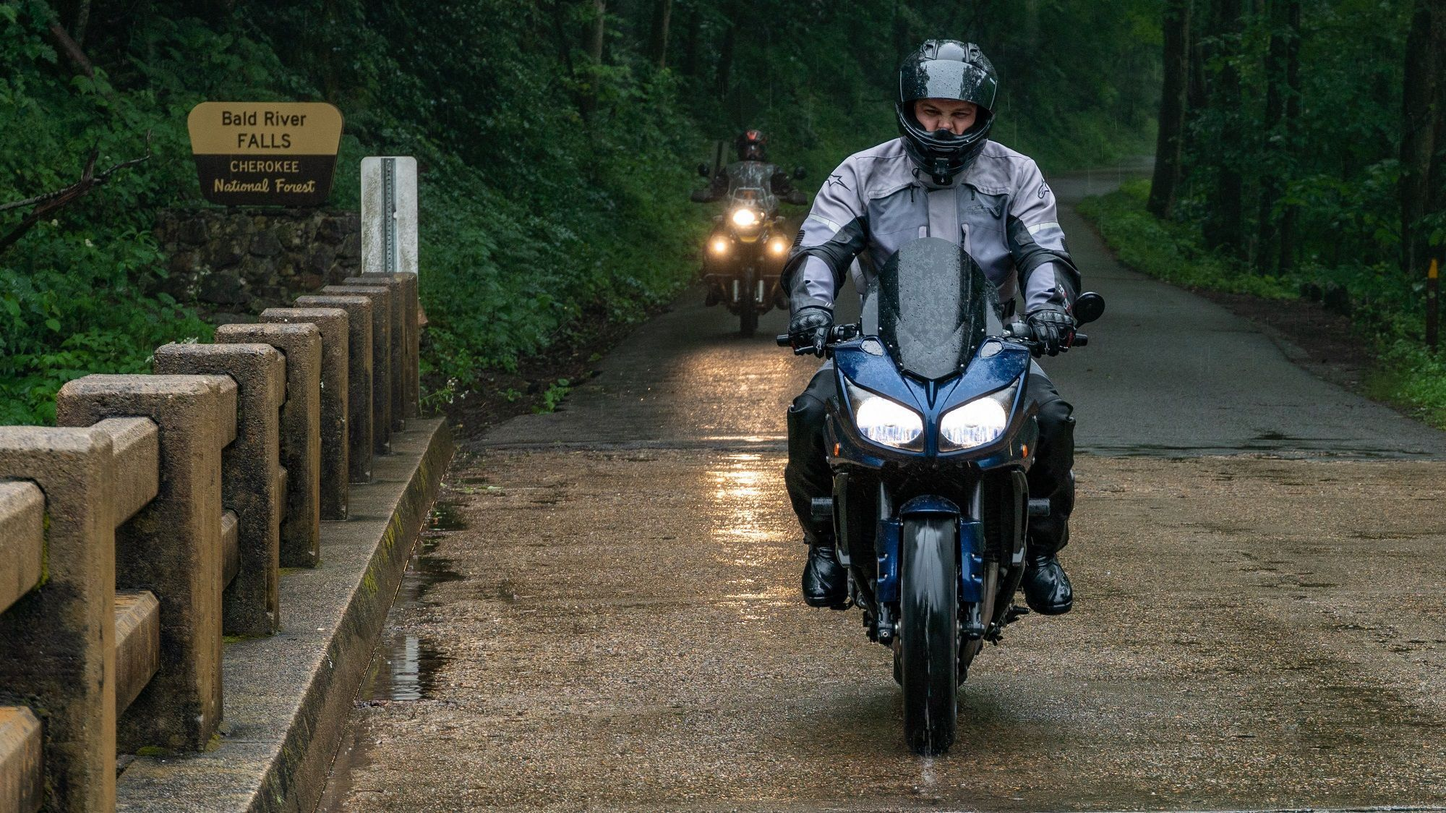Motorcycle: (776, 247, 1094, 749), (675, 173, 821, 345)
